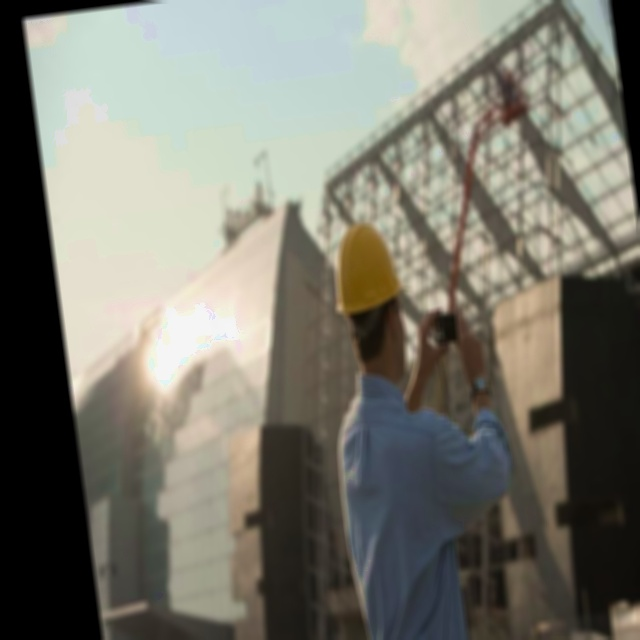Sin_Casco_Mascarrilla: (327, 216, 420, 371)
Sin_Chaleco: (328, 386, 464, 640)
